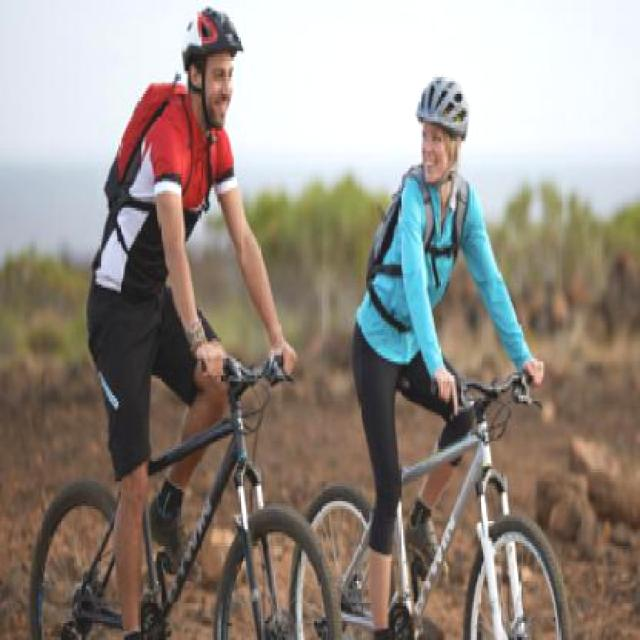With Helmet: (177, 7, 246, 88), (408, 71, 475, 151)
